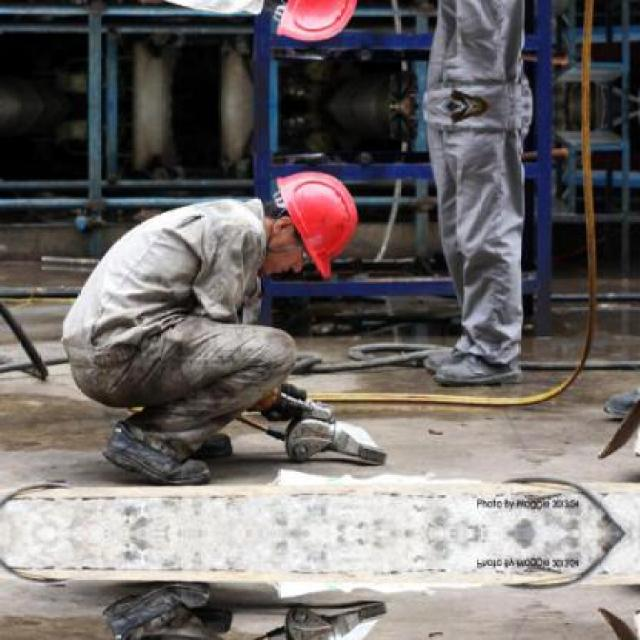helmet: (258, 165, 364, 278), (257, 0, 365, 48)
